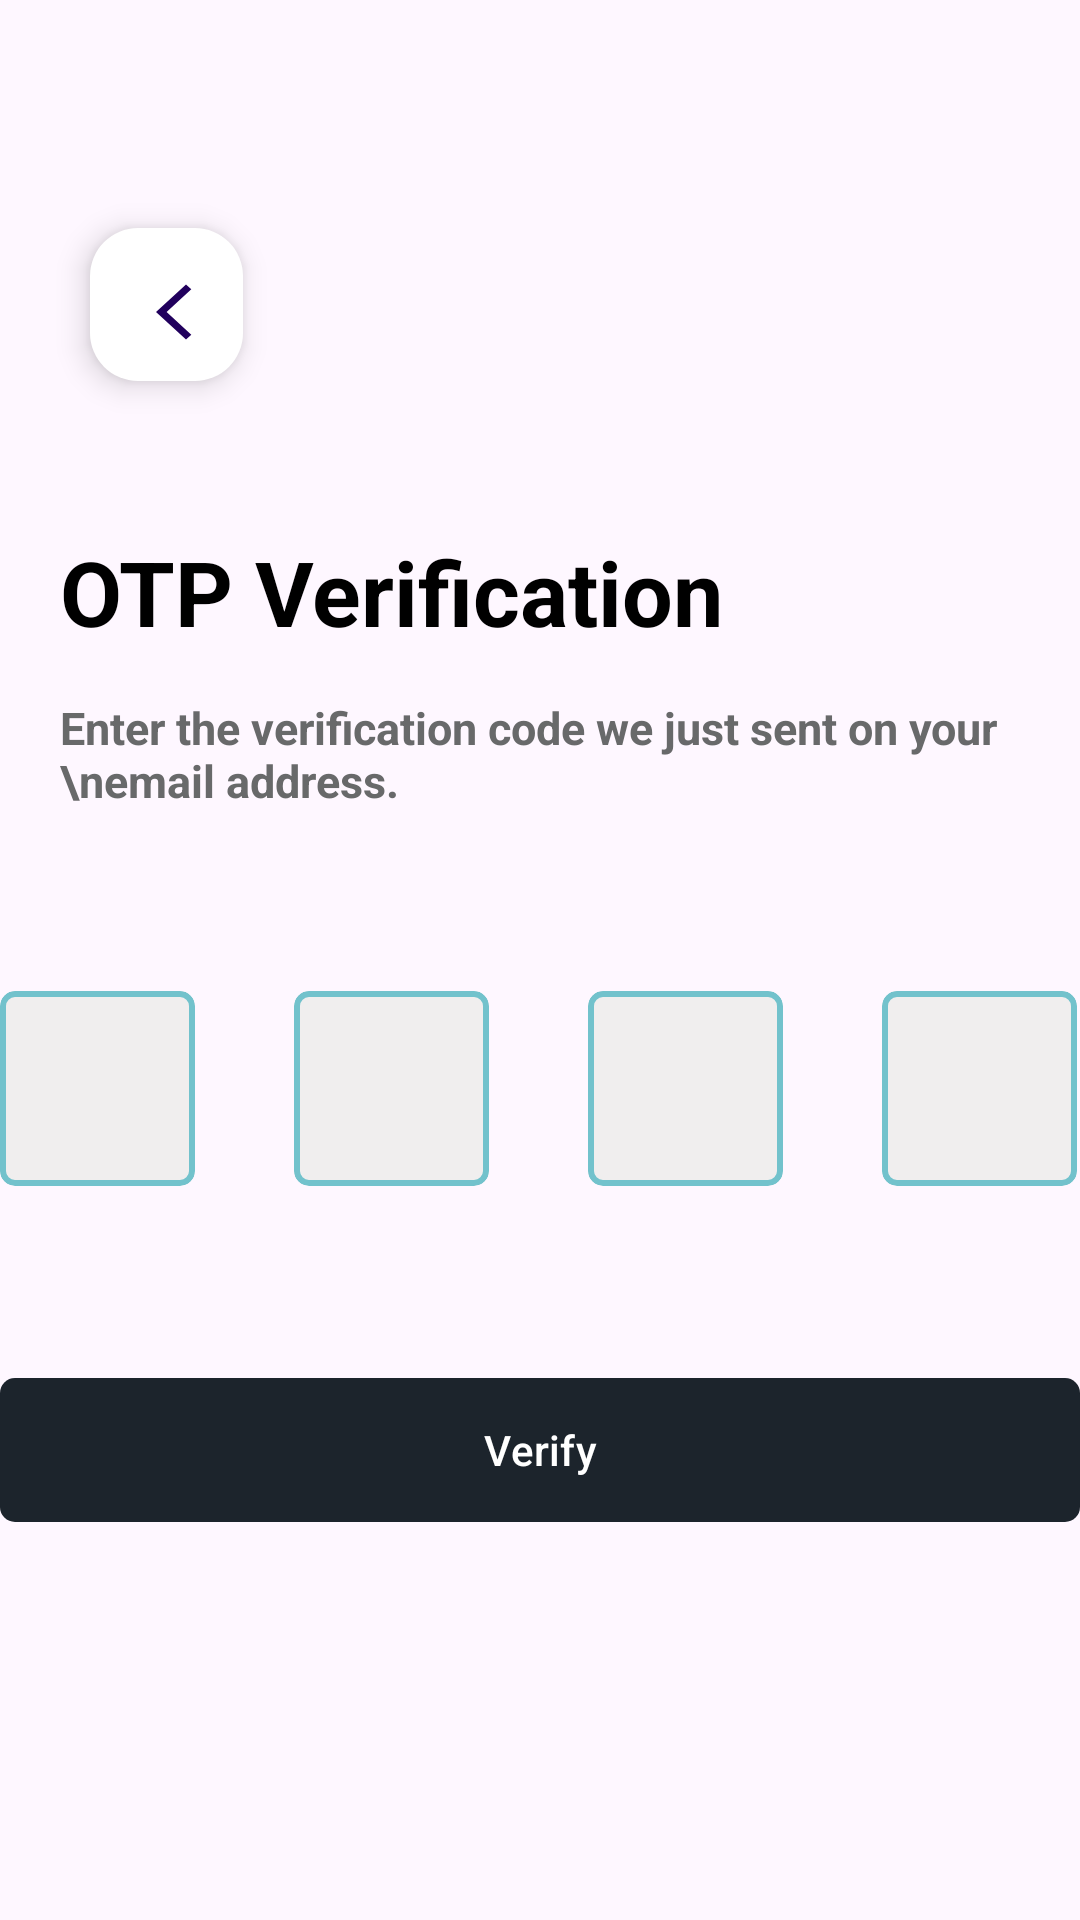

Icon bounding boxes for this 1080px x 1920px phone screenshot, format (x1, y1, x2, y2):
arrow back: (90, 228, 243, 381)
